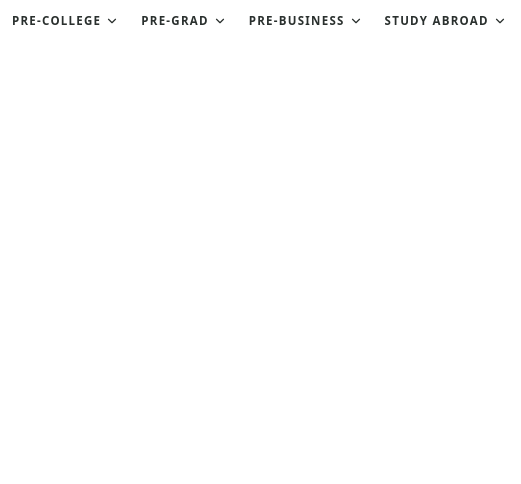
Test case: PrimaryNav › opens a panel holding the hub link and every child link
The image size is (521, 484).
Click the button "Pre-College" at (66, 21), box [12,12,119,29]
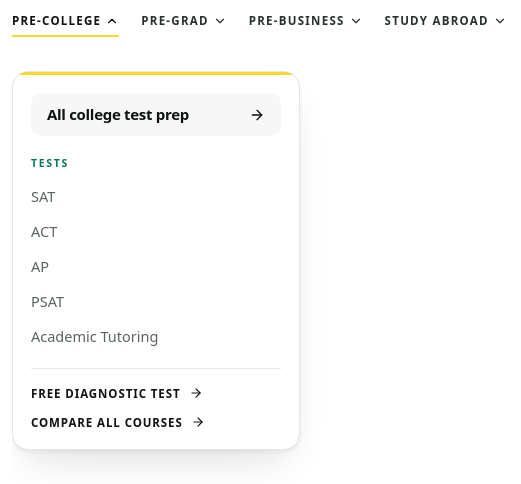
Now the button "Pre-College" is expanded, box [12,12,119,29]
